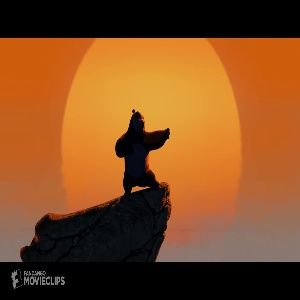po: (110, 107, 173, 191)
